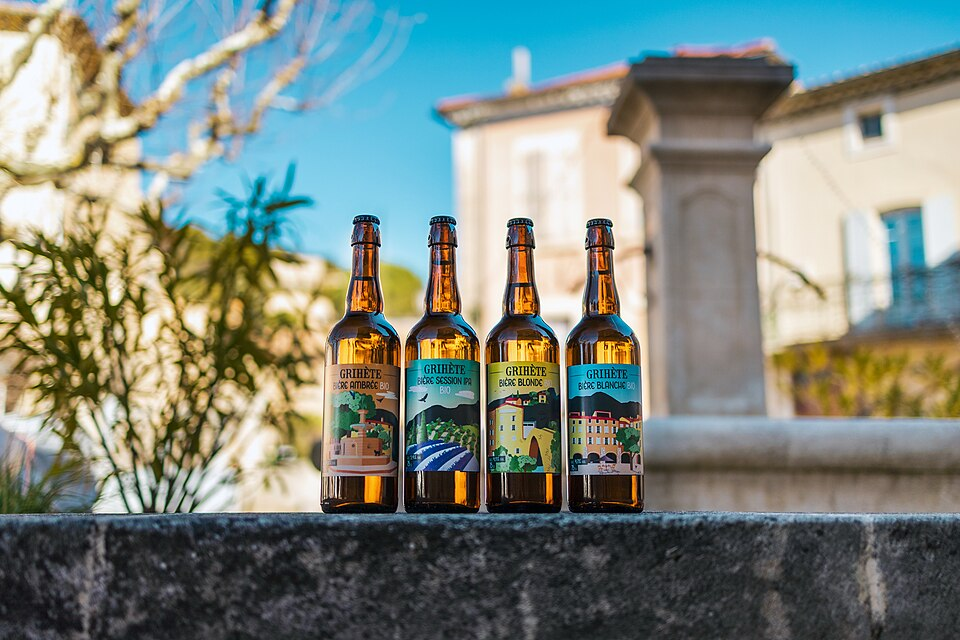beer-bottle: (561, 214, 648, 515), (318, 212, 404, 513), (482, 213, 565, 513), (402, 211, 484, 512)
